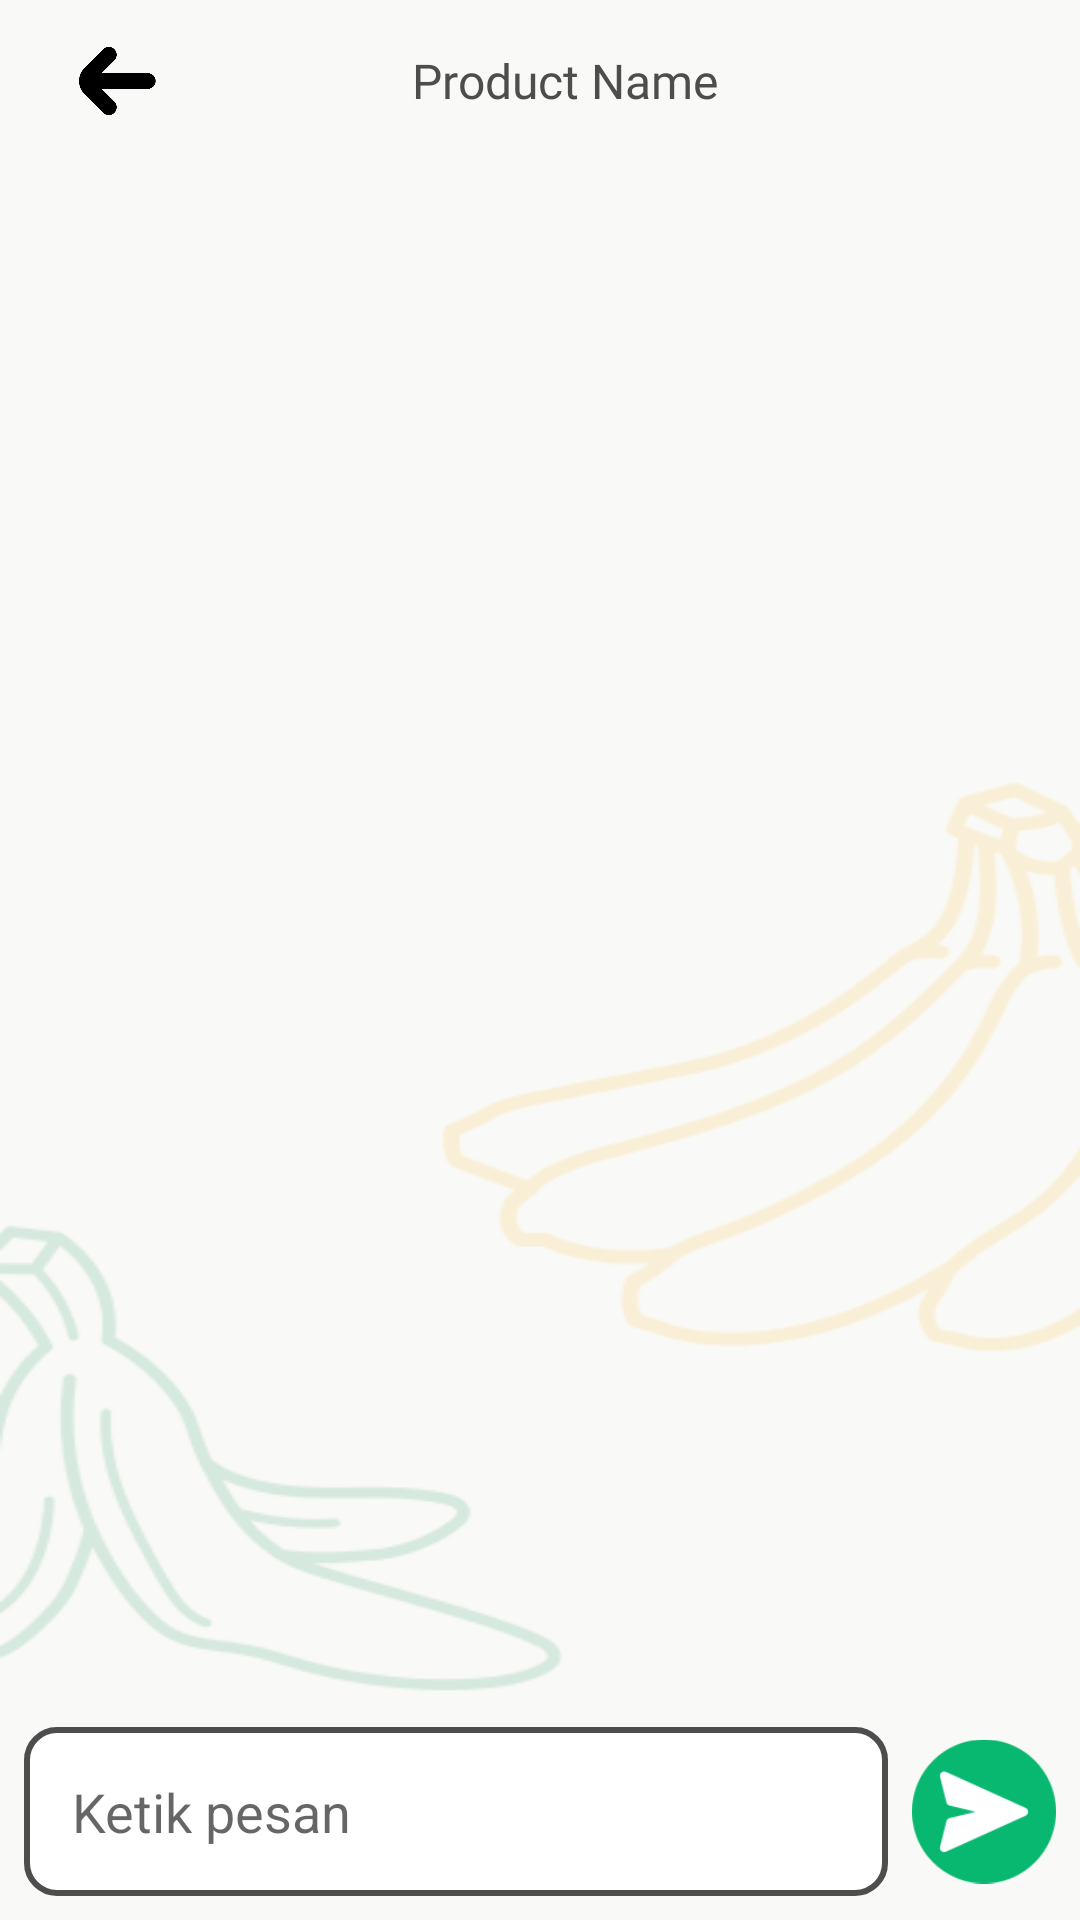

Where to tap for icons on this 1080 × 1920 app screen, as point (x, y):
back: point (117, 81)
send: point (984, 1812)
